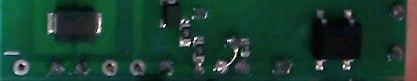chip-resistor: (178, 18, 193, 48), (192, 35, 206, 63), (240, 38, 252, 58)
diode: (45, 7, 104, 42), (160, 0, 181, 30)
ic: (310, 8, 363, 72)
